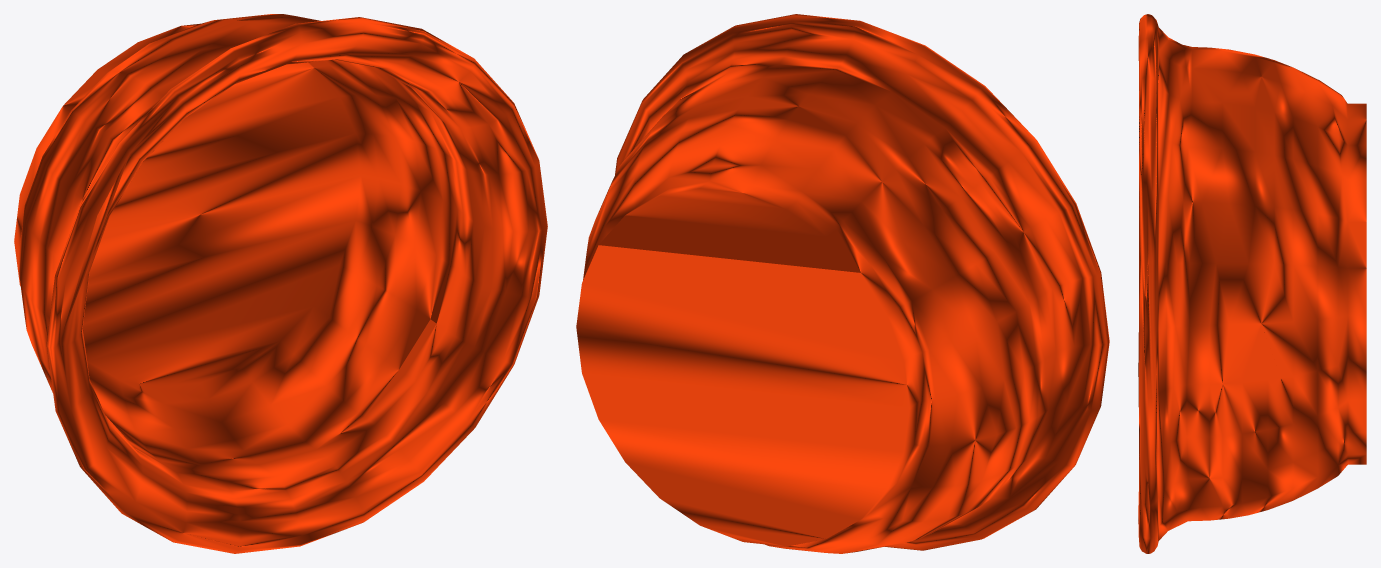
The model's file is model_align.obj.
3 views of the same model, side by side, from view 1: azimuth 30°, elevation 25°; view 2: azimuth 150°, elevation 25°; view 3: azimuth 270°, elevation 25° (orthographic). The views are drawn at different scales.
Size of the model in its own units: 0.1668 by 0.1668 by 0.0703.
